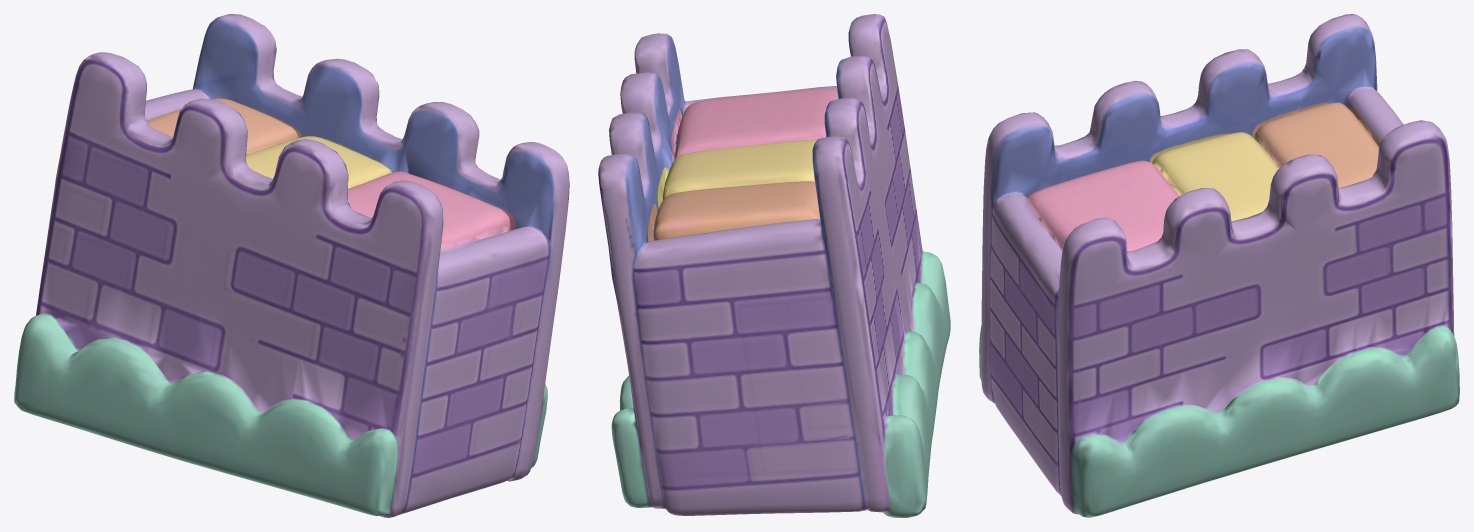
The picture shows the model from 3 angles, left to right: view 1: azimuth 30°, elevation 25°; view 2: azimuth 150°, elevation 25°; view 3: azimuth 270°, elevation 25°; orthographic projection. The views are drawn at different scales.
Visible parts, largest first — view 1: repaired; view 2: repaired; view 3: repaired.
Boxes of the visible parts, bbox=[...] form: repaired: bbox=[14, 14, 569, 517]; repaired: bbox=[598, 14, 950, 517]; repaired: bbox=[979, 14, 1459, 517].
Bounding box in the file's own units: 0.9192 × 0.8276 × 0.977.
Materials: 1 (1 with a texture image).
